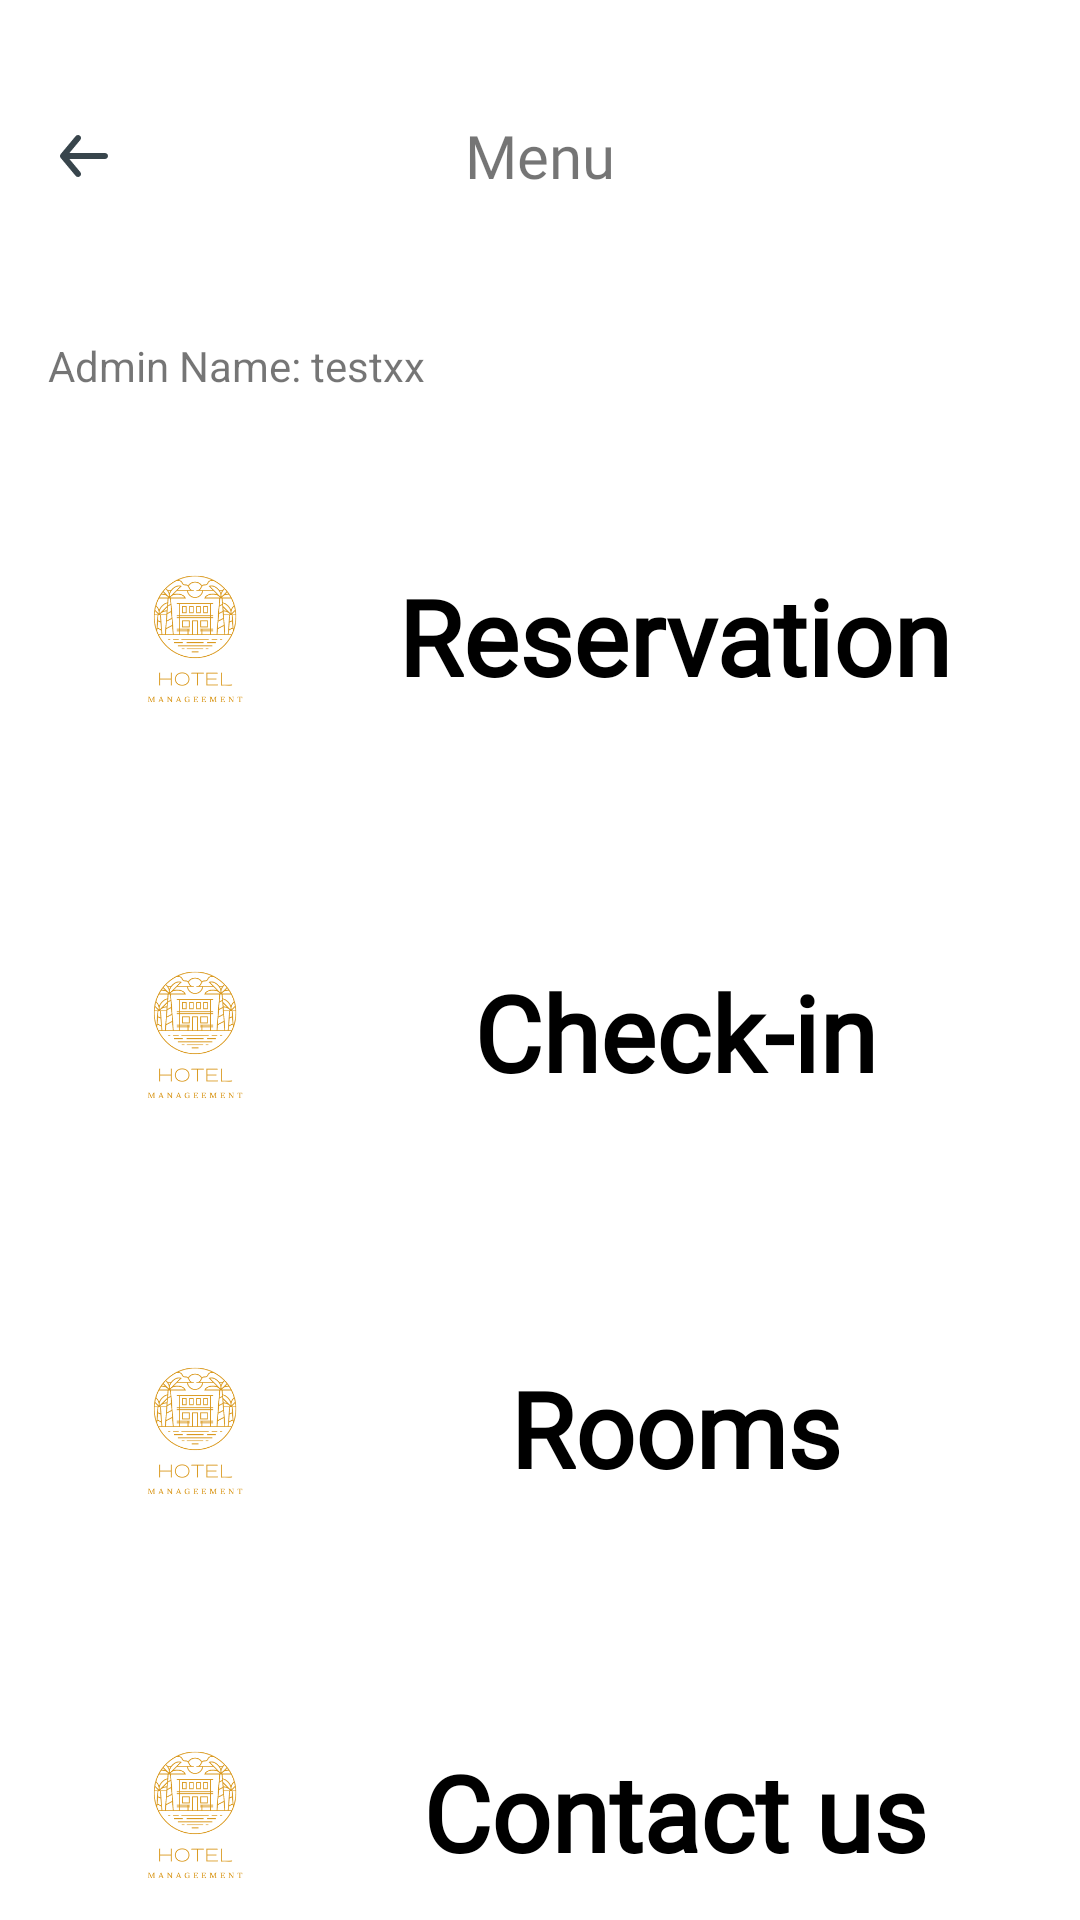

Point at icon controls on the screen. Image size 1080 × 1920, points as point (x, y).
arrow backward: point (84, 156)
